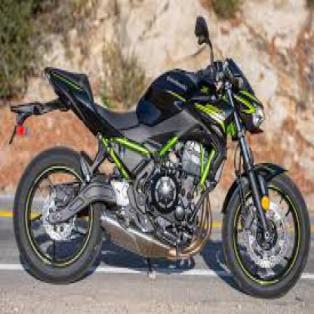Motocicleta: (8, 15, 312, 300)
